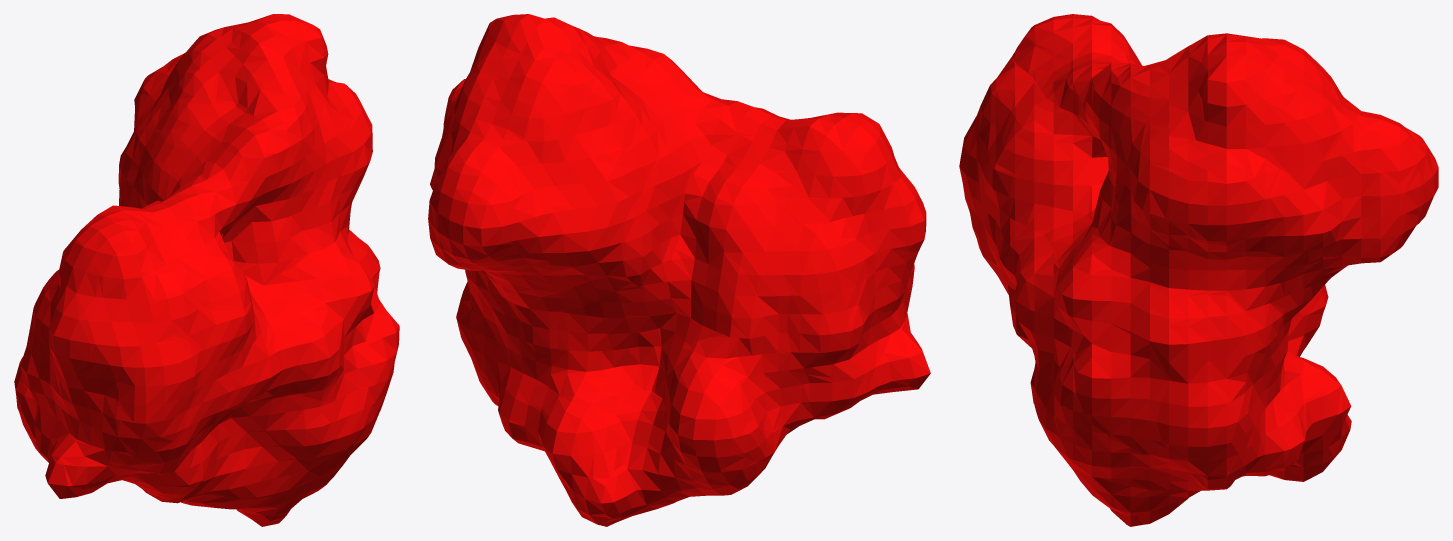
The model's file is poxB_coarse.dae.
3 renders of one model, left to right at view 1: azimuth 30°, elevation 25°; view 2: azimuth 150°, elevation 25°; view 3: azimuth 270°, elevation 25°, orthographic. The views are drawn at different scales.
Visible parts, largest first — view 1: poxB; view 2: poxB; view 3: poxB.
Part boxes in pixels (x1=…): poxB: x1=14, y1=14, x2=399, y2=526; poxB: x1=428, y1=14, x2=930, y2=526; poxB: x1=959, y1=14, x2=1438, y2=526.
Bounding box in the file's own units: 68.96 × 77.97 × 66.35.
